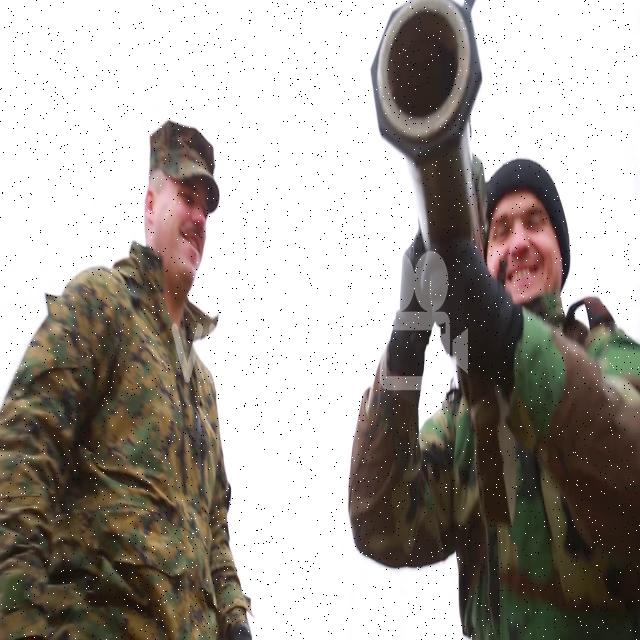bazooka: (366, 1, 488, 265)
